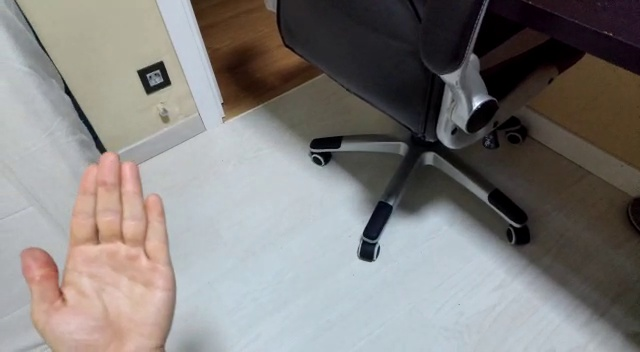Palm: (13, 151, 179, 350)
